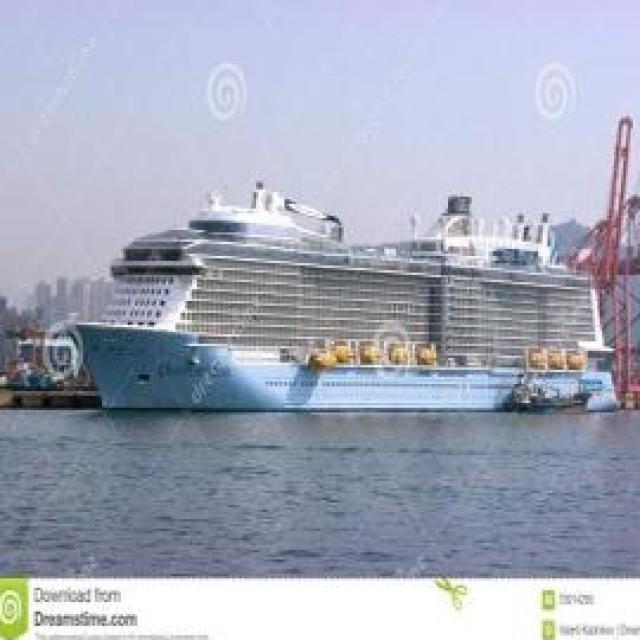passenger ship: (69, 180, 631, 417)
